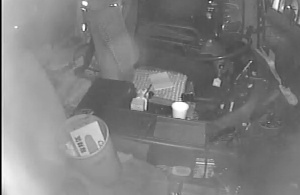cup: (169, 100, 189, 121)
